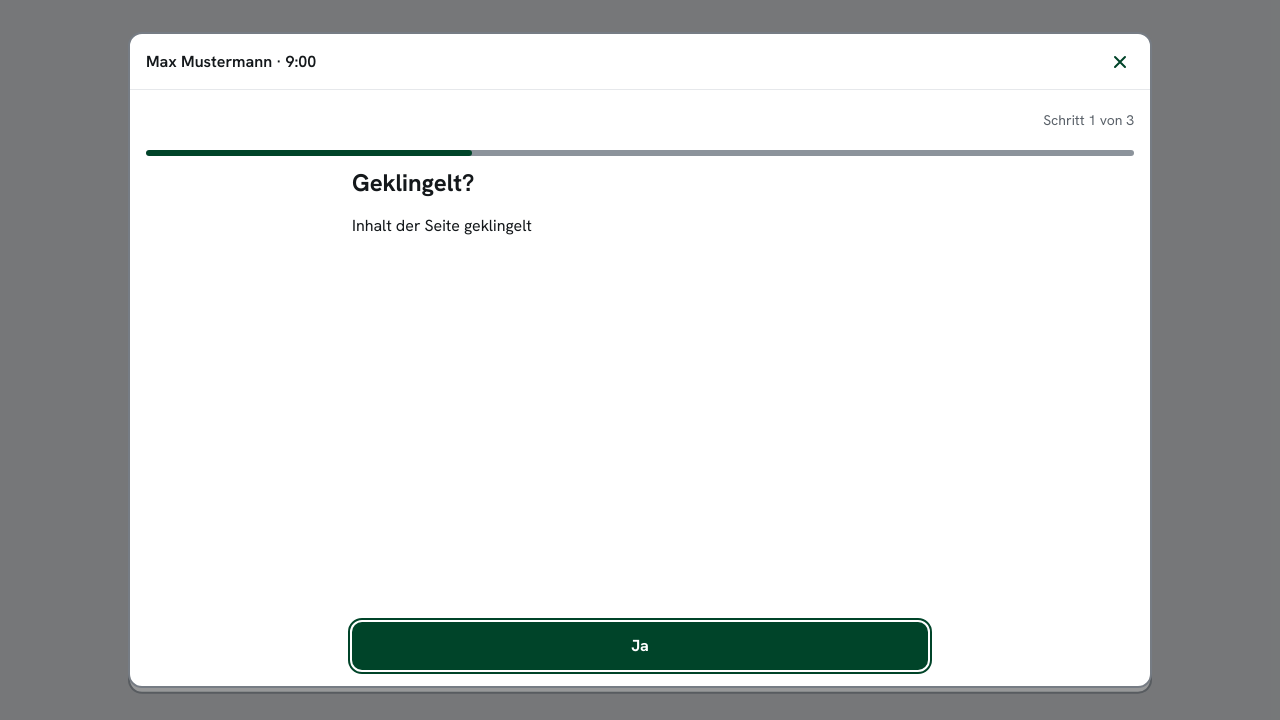
GefuehrterAblauf wechselt die Seiten waagerecht (ANN-663) › springt bei reduzierter Bewegung
The image size is (1280, 720).
Click the 2nd button "Ja": point(640, 646) [352,622,928,670]
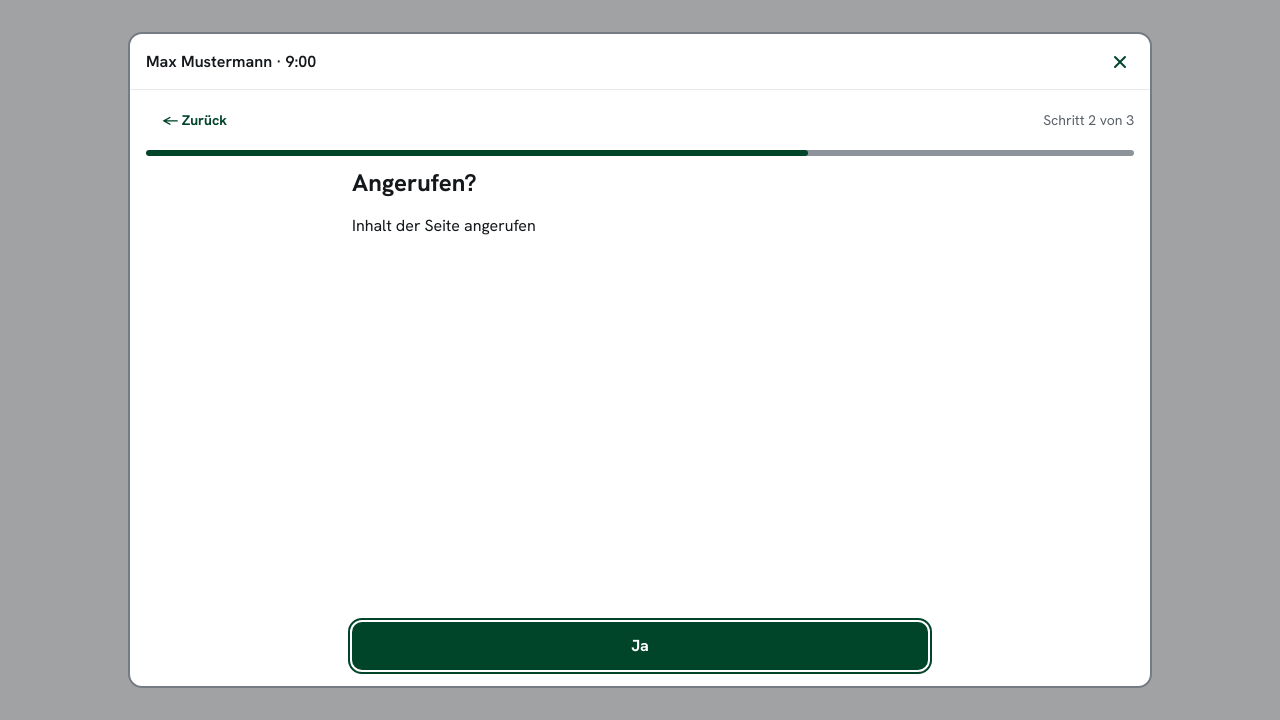
expect the dialog "Angerufen?" is shown: met
